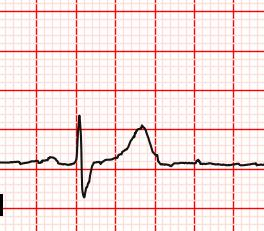LVH: (102, 123, 169, 170)
ST Depression: (68, 154, 97, 200)
